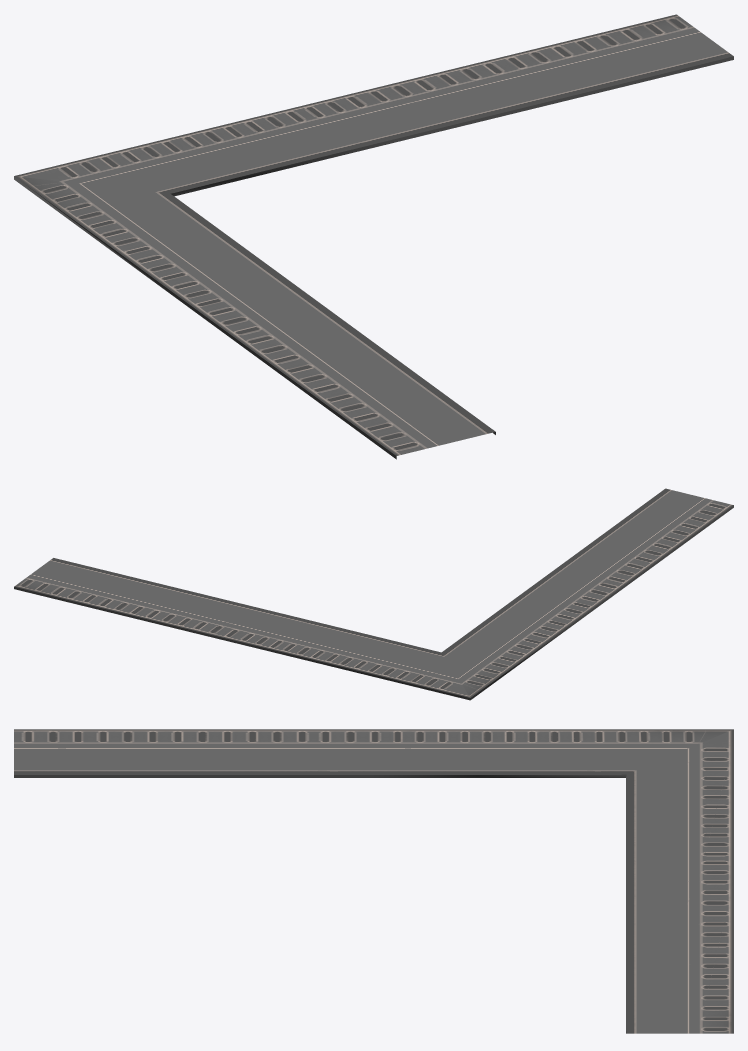
Rendered from bottom_metal_corner_square_inner.glb.
3 views of the same model, one above another, from view 1: azimuth 30°, elevation 25°; view 2: azimuth 150°, elevation 25°; view 3: azimuth 270°, elevation 25° (orthographic). The views are drawn at different scales.
Visible parts, largest first — view 1: BottomMetal_Corner_Square_Inner; view 2: BottomMetal_Corner_Square_Inner; view 3: BottomMetal_Corner_Square_Inner.
Part boxes in pixels (x1,y1,x2,y2): BottomMetal_Corner_Square_Inner: (14, 14, 733, 459); BottomMetal_Corner_Square_Inner: (14, 488, 733, 700); BottomMetal_Corner_Square_Inner: (14, 729, 733, 1033).
Bounding box in the file's own units: 4 × 0.02 × 4.
2 materials, 2 textured.
